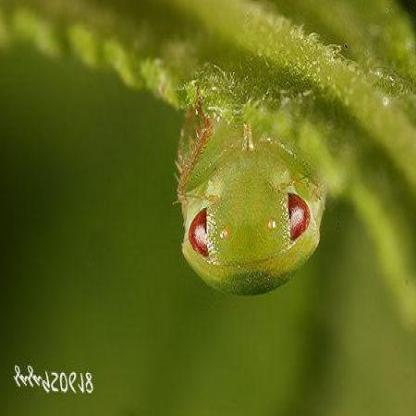green-leafhopper: (176, 110, 331, 292)
